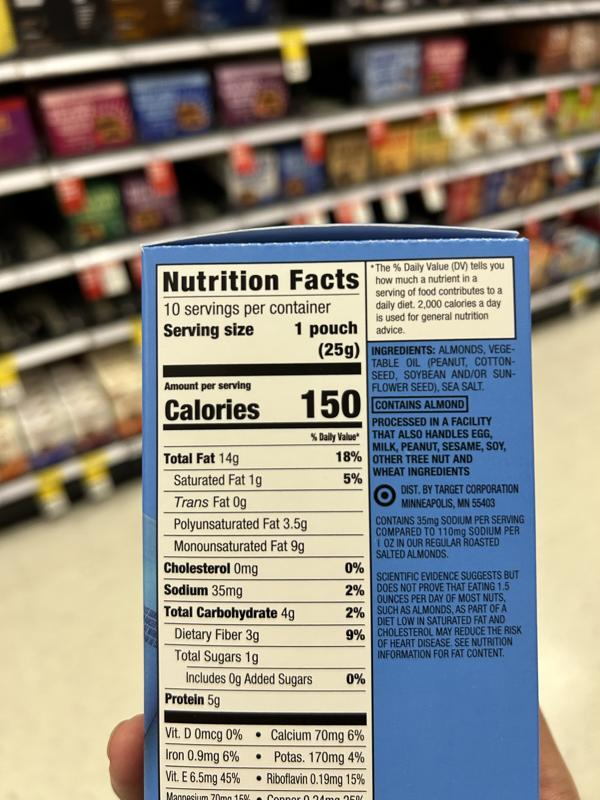ingredients: (370, 343, 515, 393)
